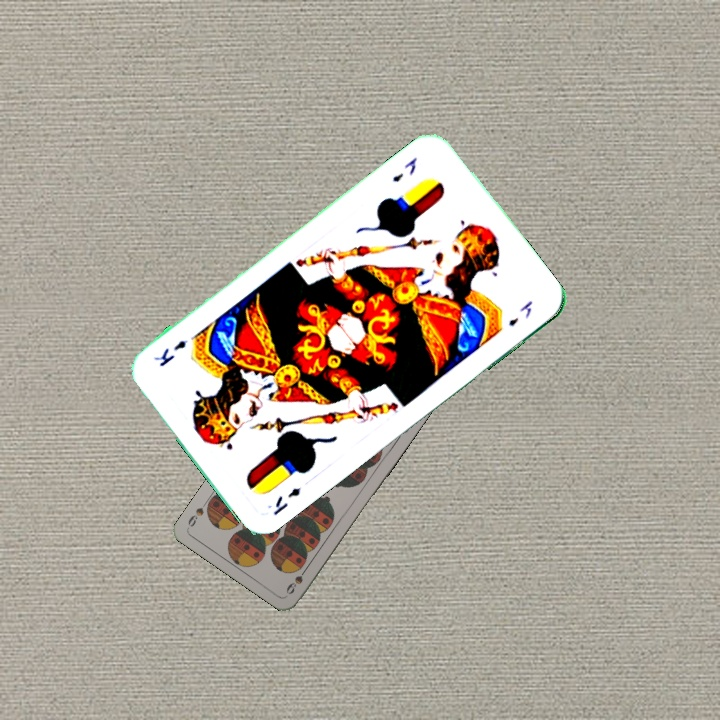EK: (269, 483, 303, 518), (388, 152, 421, 185)
S9: (282, 561, 311, 597)
